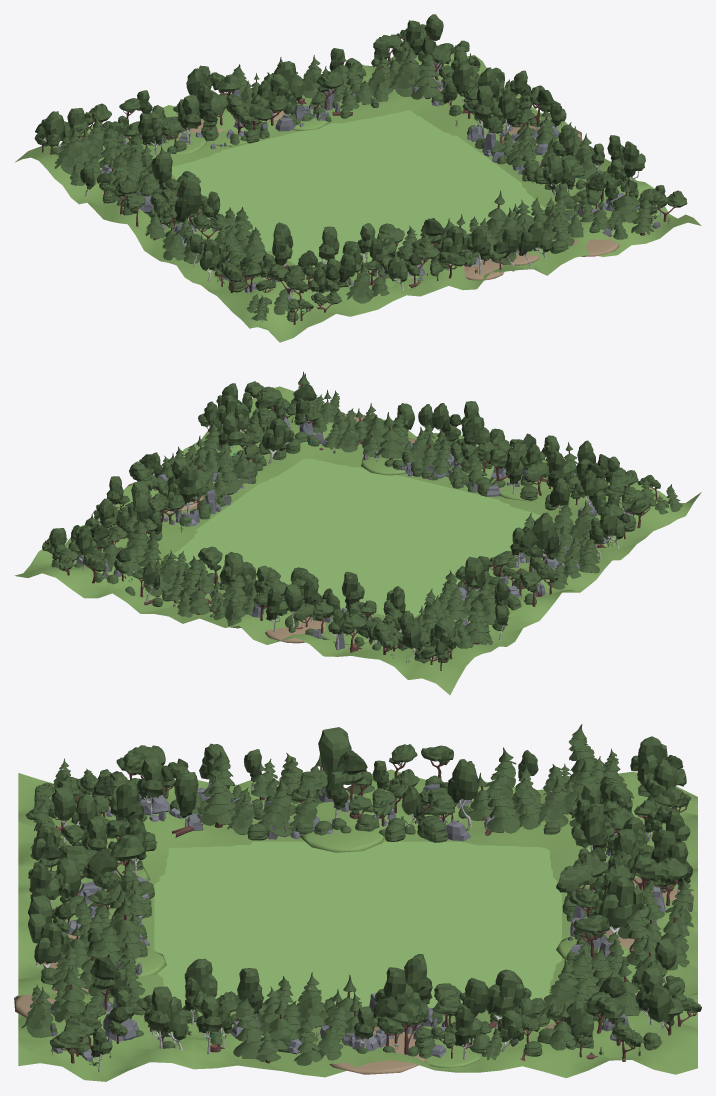
File: forest_border.glb
The picture shows the model from 3 angles, top to bottom: view 1: azimuth 30°, elevation 25°; view 2: azimuth 150°, elevation 25°; view 3: azimuth 270°, elevation 25°; orthographic projection. The views are drawn at different scales.
Visible parts, largest first — view 1: GameGrid, ForestTerrain, BirchTree_2_Cube.004, PineTree_3_Cylinder.043, PineTree_3_Cylinder.038, PineTree_3_Cylinder.002, BirchTree_1_Cube.002, BirchTree_3_Cube.023, BirchTree_3_Cube.012, BirchTree_3_Cube.020, BirchTree_3_Cube.016, BirchTree_3_Cube.027 (+22 smaller); view 2: GameGrid, ForestTerrain, BirchTree_2_Cube.004, BirchTree_1_Cube.014, PineTree_3_Cylinder.002, BirchTree_3_Cube.020, DirtPatch_7, PineTree_2_Cylinder.013, BirchTree_3_Cube.007, BirchTree_1_Cube.001, BirchTree_1_Cube.002, BirchTree_3_Cube.015 (+14 smaller); view 3: GameGrid, ForestTerrain, BirchTree_1_Cube.012, DirtPatch_17, BirchTree_1_Cube.016, DirtPatch_12, PineTree_3_Cylinder.045, PineTree_3_Cylinder.015, BirchTree_3_Cube.012, PineTree_3_Cylinder.013, BirchTree_2_Cube.004, BirchTree_2_Cube.008 (+76 smaller).
Boxes of the visible parts, bbox=[...] form: GameGrid: bbox=[171, 110, 545, 267]; ForestTerrain: bbox=[15, 45, 701, 342]; BirchTree_2_Cube.004: bbox=[174, 179, 201, 233]; PineTree_3_Cylinder.043: bbox=[411, 50, 442, 99]; PineTree_3_Cylinder.038: bbox=[389, 47, 418, 96]; PineTree_3_Cylinder.002: bbox=[54, 126, 84, 174]; BirchTree_1_Cube.002: bbox=[37, 111, 71, 150]; BirchTree_3_Cube.023: bbox=[491, 88, 517, 133]; BirchTree_3_Cube.012: bbox=[178, 94, 201, 144]; BirchTree_3_Cube.020: bbox=[473, 85, 494, 138]; BirchTree_3_Cube.016: bbox=[466, 225, 490, 274]; BirchTree_3_Cube.027: bbox=[622, 141, 645, 180]; GameGrid: bbox=[174, 458, 540, 617]; ForestTerrain: bbox=[14, 386, 701, 694]; BirchTree_2_Cube.004: bbox=[531, 512, 559, 561]; BirchTree_1_Cube.014: bbox=[262, 418, 294, 463]; PineTree_3_Cylinder.002: bbox=[464, 596, 490, 644]; BirchTree_3_Cube.020: bbox=[179, 465, 203, 513]; DirtPatch_7: bbox=[265, 616, 325, 643]; PineTree_2_Cylinder.013: bbox=[376, 412, 402, 459]; BirchTree_3_Cube.007: bbox=[548, 449, 572, 486]; BirchTree_1_Cube.001: bbox=[597, 509, 624, 548]; BirchTree_1_Cube.002: bbox=[430, 619, 456, 659]; BirchTree_3_Cube.015: bbox=[266, 587, 288, 632]; GameGrid: bbox=[154, 841, 561, 1010]; ForestTerrain: bbox=[18, 769, 697, 1081]; BirchTree_1_Cube.012: bbox=[598, 875, 646, 934]; DirtPatch_17: bbox=[300, 819, 384, 852]; BirchTree_1_Cube.016: bbox=[486, 969, 531, 1031]; DirtPatch_12: bbox=[329, 1026, 426, 1074]; PineTree_3_Cylinder.045: bbox=[233, 994, 264, 1058]; PineTree_3_Cylinder.015: bbox=[486, 776, 520, 833]; BirchTree_3_Cube.012: bbox=[571, 805, 607, 852]; PineTree_3_Cylinder.013: bbox=[258, 778, 292, 836]; BirchTree_2_Cube.004: bbox=[318, 727, 351, 808]; BirchTree_2_Cube.008: bbox=[447, 759, 478, 828].
Size of the model in its own units: 40.75 by 6.27 by 40.51.
